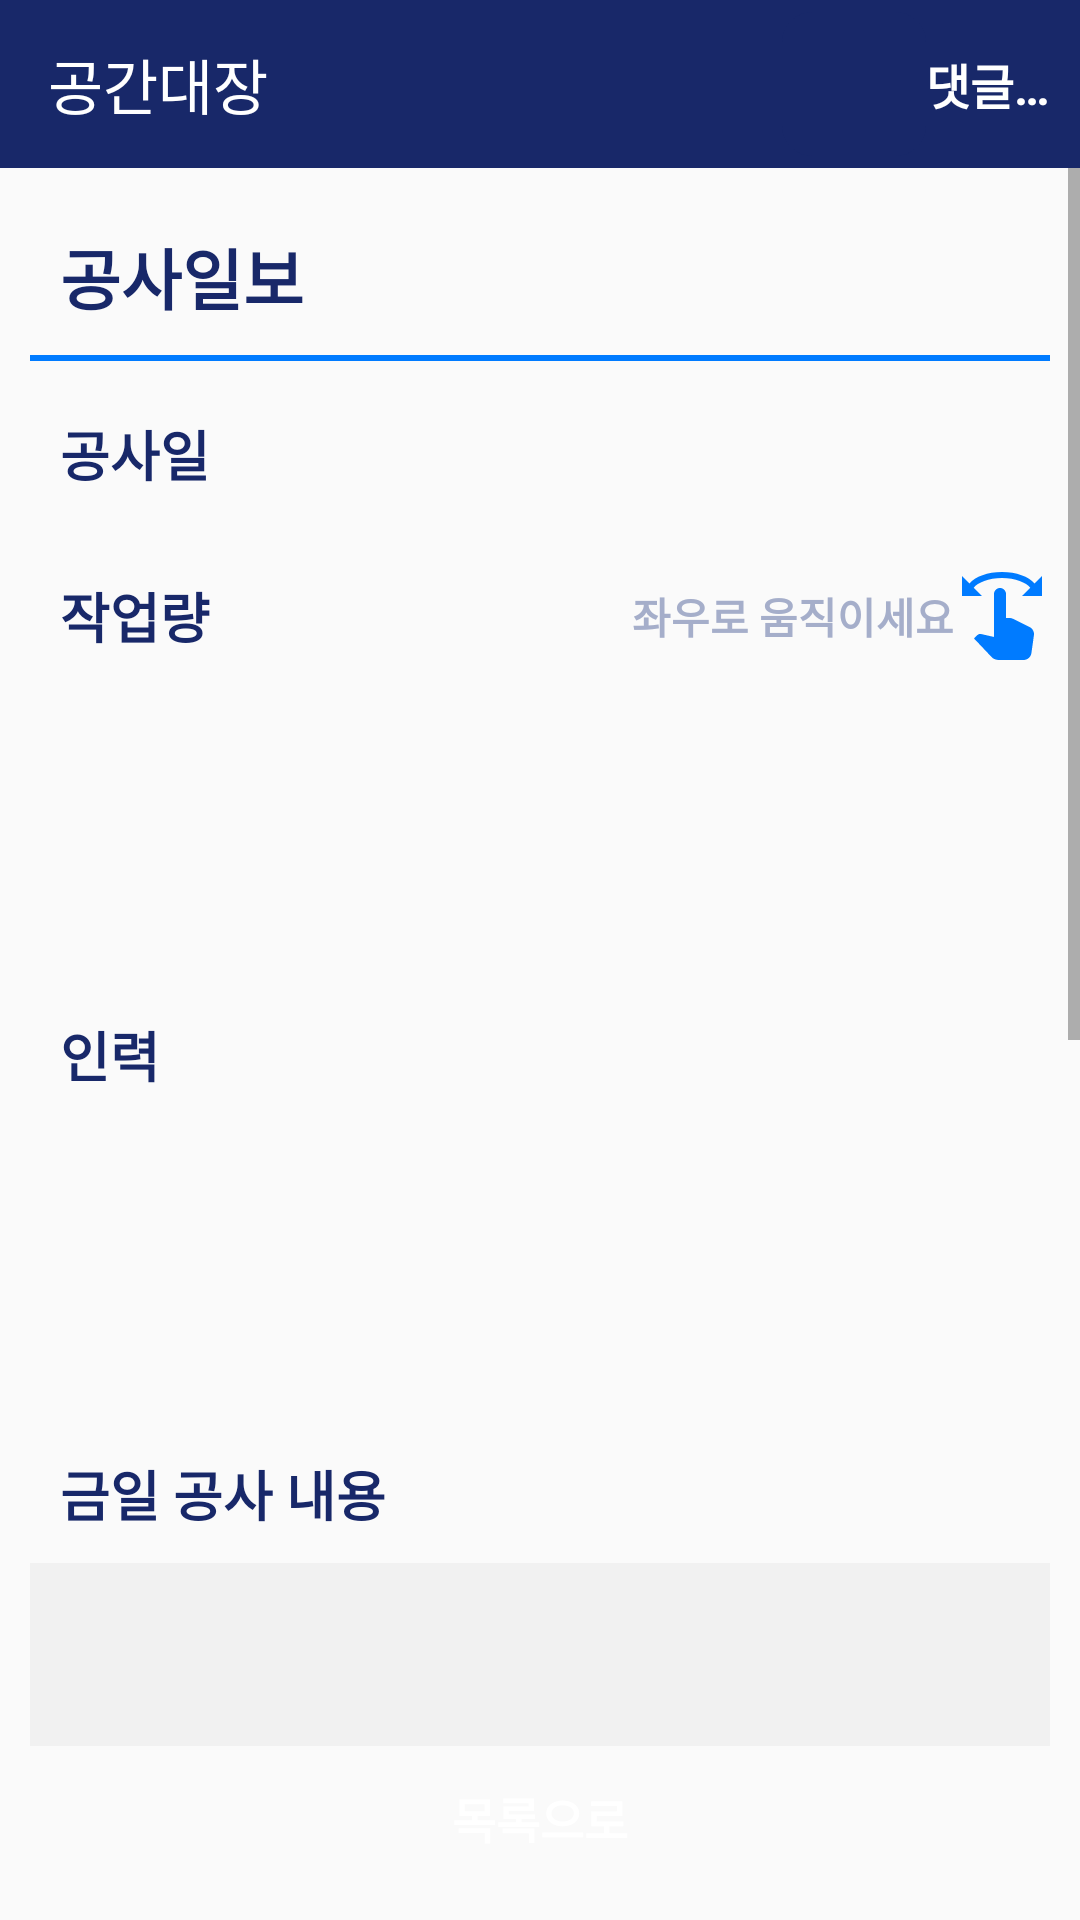

Named icons in this screenshot (1080w x 1920h) and their bounding boxes, (x1=x1, y1=y1, x2=x2, y2=y2):
swipe: (x1=962, y1=572, x2=1042, y2=660)
